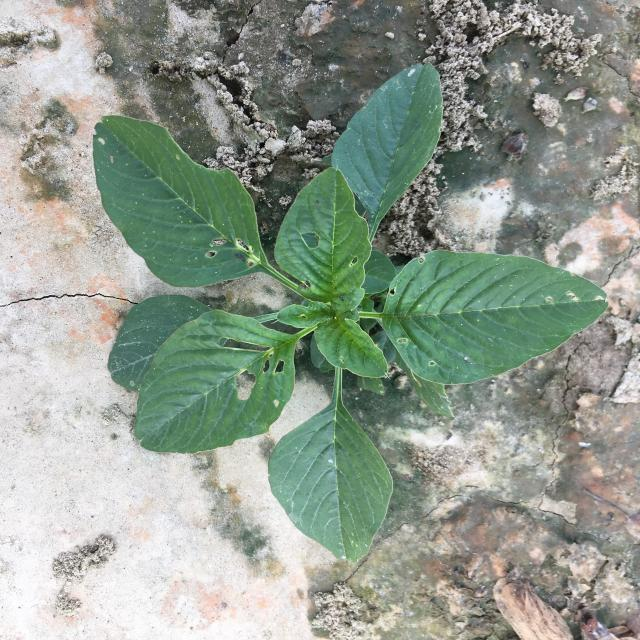PalmerAmaranth: (92, 63, 609, 564)
